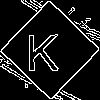K: (25, 25, 59, 71)
